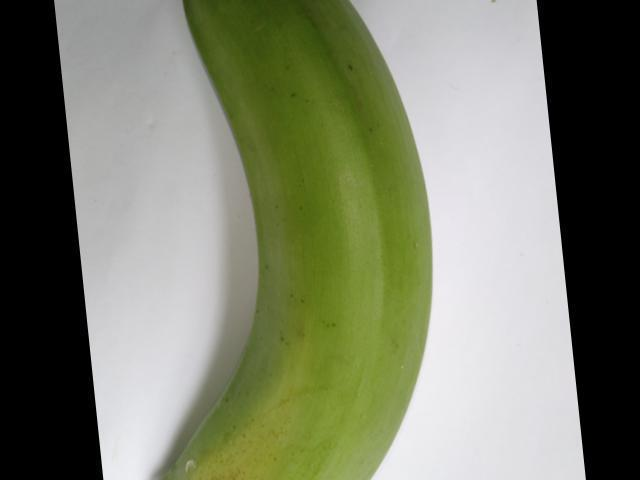freshunripe: (125, 0, 439, 479)
